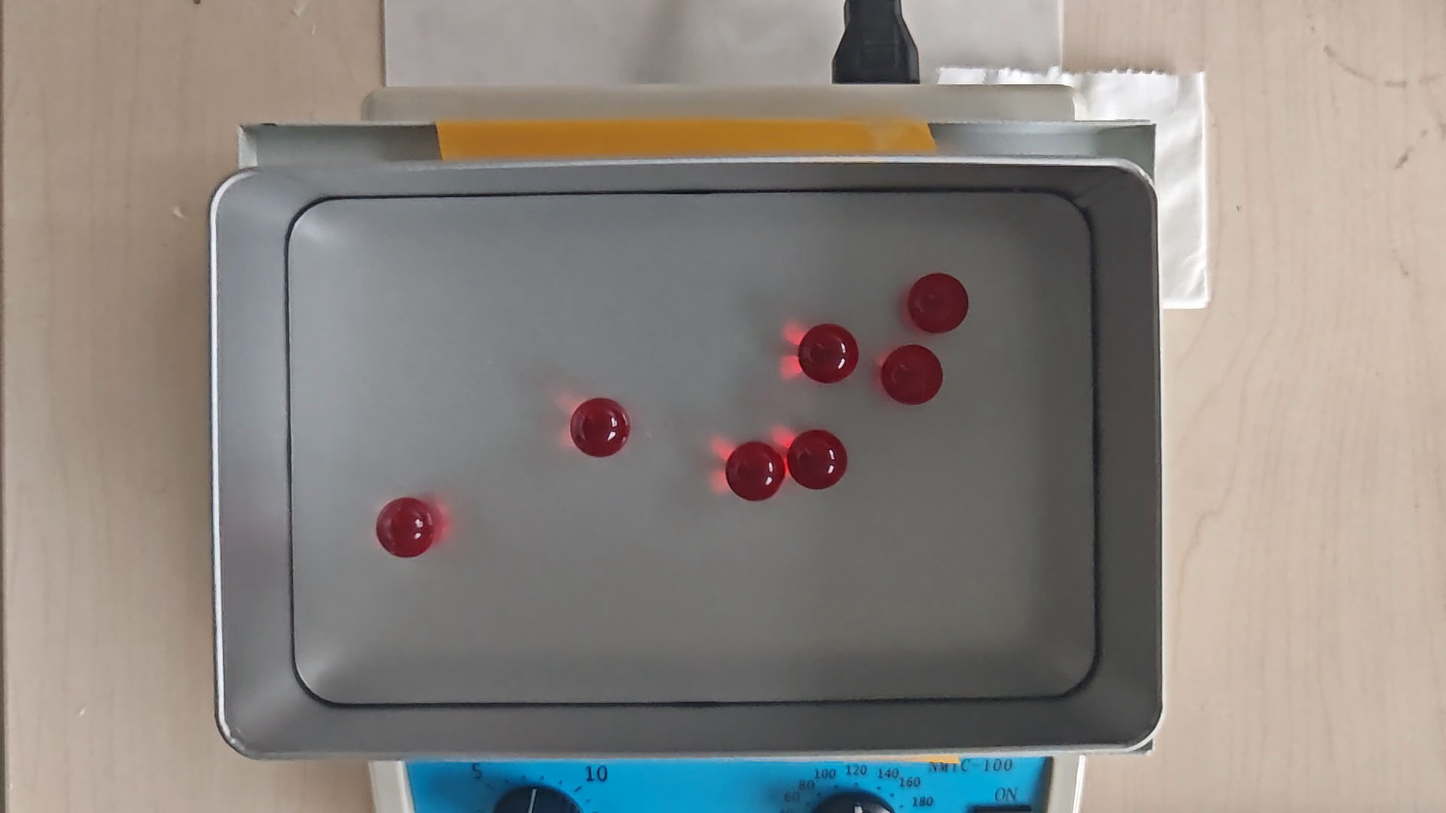ball: (882, 343, 944, 409), (908, 271, 969, 332), (798, 322, 858, 383), (377, 496, 434, 559), (570, 398, 630, 457), (789, 429, 847, 490), (725, 440, 782, 501)
container: (283, 192, 1097, 705)
